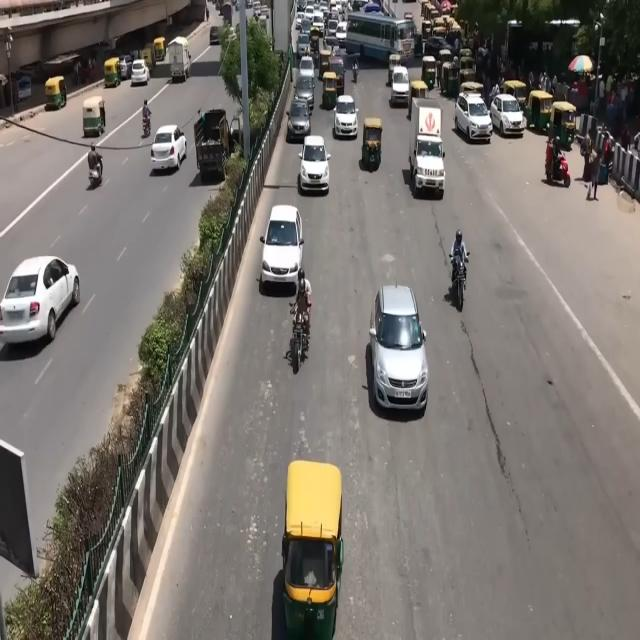auto: (281, 458, 344, 638), (549, 101, 577, 150), (525, 87, 553, 133), (362, 117, 383, 173), (82, 96, 105, 136), (503, 79, 529, 114), (44, 76, 67, 111), (326, 56, 345, 98), (321, 71, 339, 111), (410, 79, 428, 114), (441, 61, 458, 97), (422, 54, 438, 91), (104, 57, 121, 89), (388, 52, 402, 87), (459, 66, 476, 94), (319, 49, 332, 82), (309, 25, 322, 56), (142, 43, 156, 70), (153, 36, 166, 62)
bike-auto: (292, 272, 313, 348), (546, 146, 570, 188), (451, 229, 468, 288), (88, 143, 102, 186), (142, 99, 152, 138), (352, 61, 359, 83)
